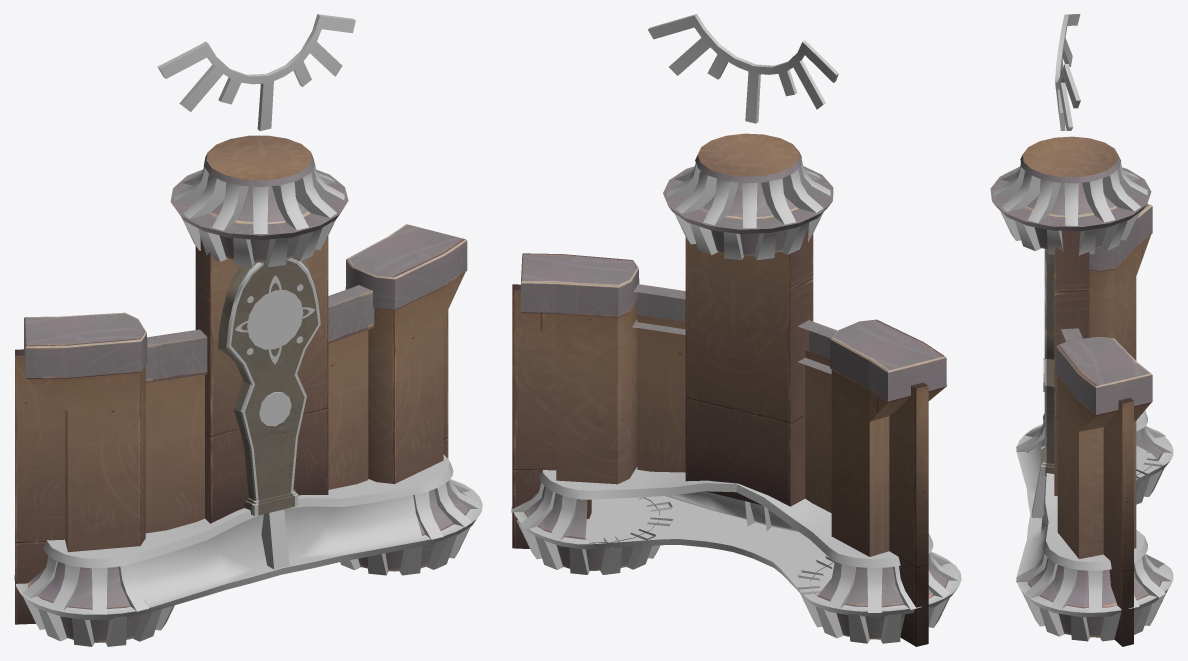
The model's file is prop_Collisium.fbx.
3 views of the same model, side by side, from view 1: azimuth 30°, elevation 25°; view 2: azimuth 150°, elevation 25°; view 3: azimuth 270°, elevation 25° (orthographic). The views are drawn at different scales.
Visible parts, largest first — view 1: prop_Collisium, prop_Collisium.001; view 2: prop_Collisium, prop_Collisium.001; view 3: prop_Collisium, prop_Collisium.001.
Part boxes in pixels (<box>): prop_Collisium: <box>14,135,482,646</box>; prop_Collisium.001: <box>157,14,355,130</box>; prop_Collisium: <box>511,133,961,646</box>; prop_Collisium.001: <box>648,14,838,123</box>; prop_Collisium: <box>990,136,1173,646</box>; prop_Collisium.001: <box>1055,14,1080,130</box>.
Bounding box in the file's own units: 6713 × 8134 × 2633.
